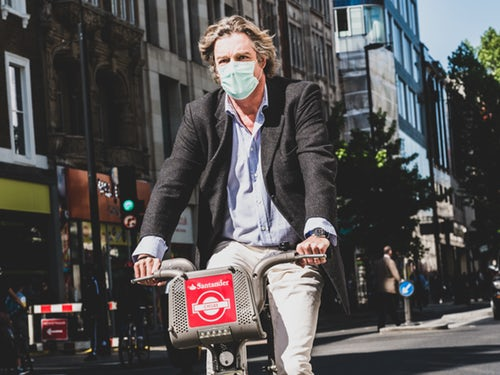mask: (217, 61, 260, 97)
